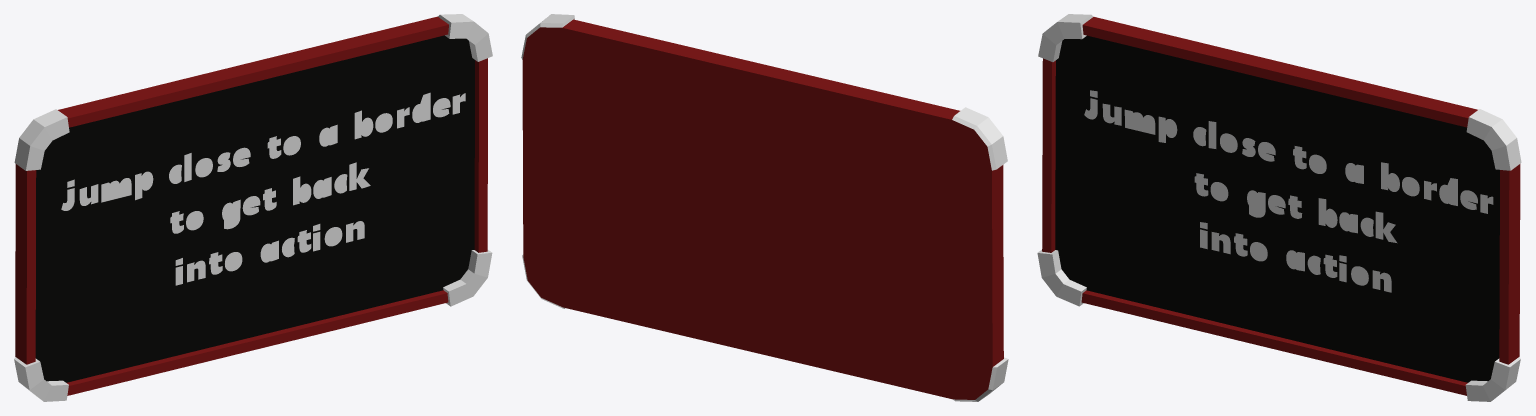
Rendered from Tuto3.FBX.
3 renders of one model, left to right at view 1: azimuth 30°, elevation 25°; view 2: azimuth 150°, elevation 25°; view 3: azimuth 330°, elevation 25°, orthographic.
Visible parts, largest first — view 1: Pizarra 5, Text 1; view 2: Pizarra 5; view 3: Pizarra 5, Text 1.
Boxes of the visible parts, left/top/right/bottom form: Pizarra 5: left=14, top=14, right=492, bottom=401; Text 1: left=61, top=92, right=465, bottom=285; Pizarra 5: left=521, top=14, right=1008, bottom=401; Pizarra 5: left=1037, top=14, right=1521, bottom=401; Text 1: left=1084, top=90, right=1493, bottom=292.
Size of the model in its own units: 77.68 by 44.99 by 4.52.
